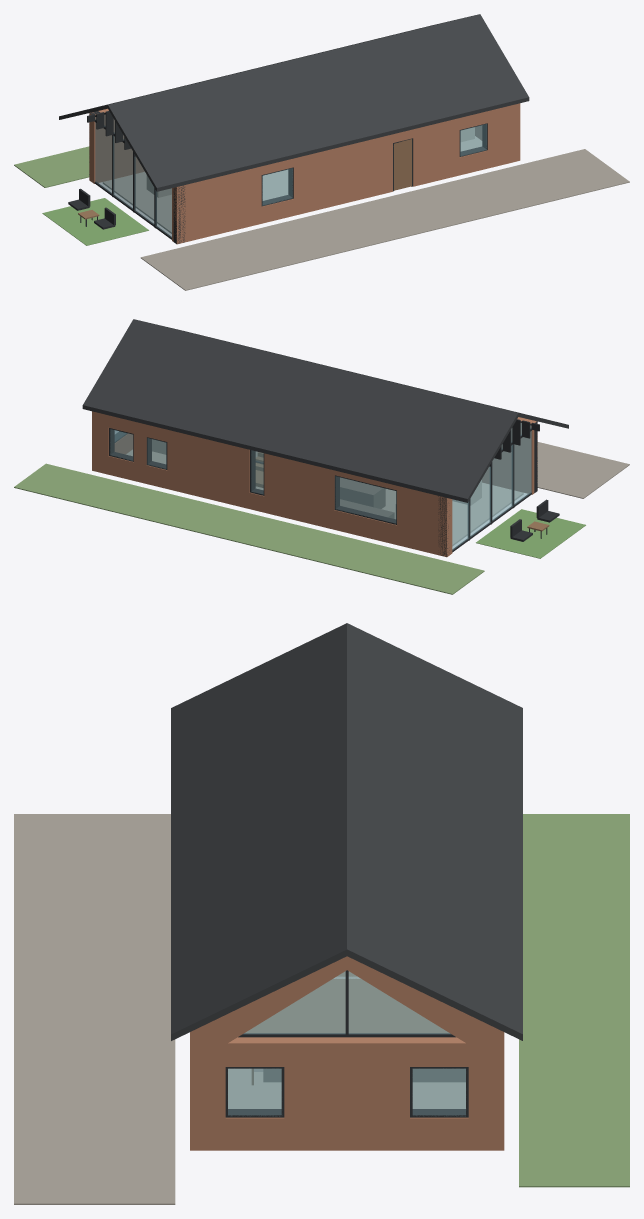
The model's file is barn.glb.
3 renders of one model, top to bottom at view 1: azimuth 30°, elevation 25°; view 2: azimuth 150°, elevation 25°; view 3: azimuth 270°, elevation 25°, orthographic. The views are drawn at different scales.
Visible parts, largest first — view 1: roof_courtyard_slope, courtyard_cobbles_context, courtyard_wall_pier_1, courtyard_wall_pier_0, front_glass_gable, courtyard_wall_pier_2, ground_floor_slab, selected_upper_gable_veil_roof_courtyard_extension, valley_grass_grid_patio, tractor_lane_wall_pier_0, tractor_lane_context, courtyard_wall_pier_end (+7 smaller); view 2: roof_lane_slope, tractor_lane_context, tractor_lane_wall_pier_2, tractor_lane_wall_pier_1, front_glass_gable, tractor_lane_wall_pier_0, courtyard_cobbles_context, selected_upper_gable_veil_roof_lane_extension, valley_grass_grid_patio, ground_floor_slab, kitchen_window, courtyard_wall_pier_0 (+11 smaller); view 3: courtyard_cobbles_context, roof_lane_slope, roof_courtyard_slope, tractor_lane_context, rear_gable_ground_pier_1, rear_loft_window, mezzanine_rear_strip, rear_gable_ground_pier_0, rear_gable_ground_pier_end, rear_gable_right_cheek, selected_upper_gable_veil_roof_courtyard_extension, rear_gable_left_cheek (+11 smaller).
Boxes of the visible parts, x1=… form: roof_courtyard_slope: x1=130, y1=14, x2=529, y2=186; courtyard_cobbles_context: x1=140, y1=149, x2=629, y2=290; courtyard_wall_pier_1: x1=293, y1=134, x2=392, y2=215; courtyard_wall_pier_0: x1=172, y1=166, x2=261, y2=244; front_glass_gable: x1=95, y1=114, x2=171, y2=237; courtyard_wall_pier_2: x1=413, y1=118, x2=459, y2=186; ground_floor_slab: x1=103, y1=136, x2=481, y2=233; selected_upper_gable_veil_roof_courtyard_extension: x1=108, y1=99, x2=178, y2=191; valley_grass_grid_patio: x1=42, y1=198, x2=148, y2=245; tractor_lane_wall_pier_0: x1=89, y1=108, x2=142, y2=183; tractor_lane_context: x1=14, y1=146, x2=89, y2=187; courtyard_wall_pier_end: x1=487, y1=103, x2=520, y2=168; roof_lane_slope: x1=82, y1=319, x2=495, y2=497; tractor_lane_context: x1=14, y1=463, x2=484, y2=594; tractor_lane_wall_pier_2: x1=167, y1=429, x2=249, y2=508; tractor_lane_wall_pier_1: x1=264, y1=453, x2=334, y2=529; front_glass_gable: x1=452, y1=423, x2=531, y2=549; tractor_lane_wall_pier_0: x1=397, y1=486, x2=452, y2=556; courtyard_cobbles_context: x1=537, y1=442, x2=629, y2=498; selected_upper_gable_veil_roof_lane_extension: x1=445, y1=407, x2=518, y2=502; valley_grass_grid_patio: x1=476, y1=509, x2=585, y2=558; ground_floor_slab: x1=126, y1=450, x2=523, y2=545; kitchen_window: x1=335, y1=476, x2=396, y2=523; courtyard_wall_pier_0: x1=481, y1=417, x2=537, y2=494; courtyard_cobbles_context: x1=14, y1=814, x2=175, y2=1204; roof_lane_slope: x1=347, y1=642, x2=522, y2=1040; roof_courtyard_slope: x1=171, y1=642, x2=346, y2=1040; tractor_lane_context: x1=519, y1=814, x2=629, y2=1187; rear_gable_ground_pier_1: x1=284, y1=1037, x2=409, y2=1150; rear_loft_window: x1=244, y1=971, x2=450, y2=1033; mezzanine_rear_strip: x1=245, y1=971, x2=448, y2=1032; rear_gable_ground_pier_0: x1=468, y1=1043, x2=504, y2=1150; rear_gable_ground_pier_end: x1=190, y1=1043, x2=225, y2=1150; rear_gable_right_cheek: x1=190, y1=956, x2=346, y2=1043; selected_upper_gable_veil_roof_courtyard_extension: x1=171, y1=623, x2=346, y2=726; rear_gable_left_cheek: x1=347, y1=956, x2=504, y2=1043.
Size of the model in its own units: 23.4 by 5.46 by 14.7.
